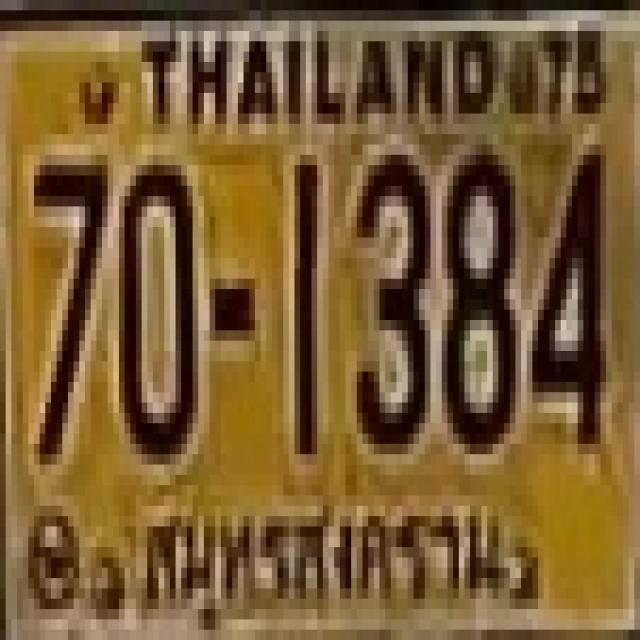0: (116, 155, 196, 454)
1: (292, 155, 314, 454)
3: (351, 144, 425, 444)
4: (527, 139, 600, 439)
7: (31, 155, 105, 454)
8: (439, 144, 513, 444)
SKM: (124, 487, 520, 626)
